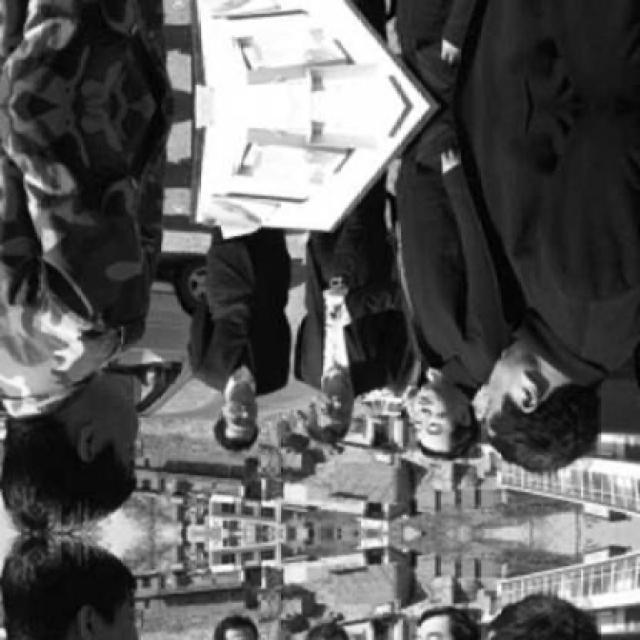sin casco: (475, 348, 640, 458), (6, 400, 144, 530), (401, 374, 484, 479), (201, 382, 282, 440), (310, 385, 356, 445)
